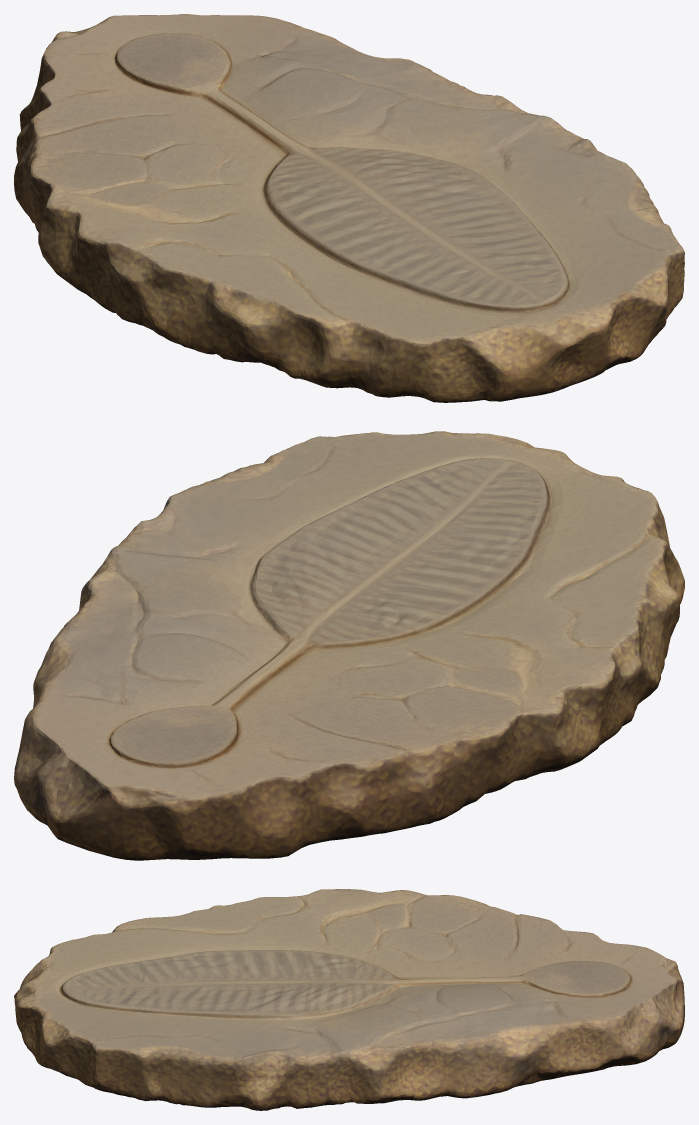
The picture shows the model from 3 angles, top to bottom: view 1: azimuth 30°, elevation 25°; view 2: azimuth 150°, elevation 25°; view 3: azimuth 270°, elevation 25°; orthographic projection. The views are drawn at different scales.
Visible parts, largest first — view 1: world; view 2: world; view 3: world.
Part boxes in pixels (x1,y1,x2,y2): world: (14,14,684,402); world: (14,431,684,860); world: (14,889,684,1110).
Size of the model in its own units: 0.6401 by 0.0939 by 0.9972.
Materials: 1 (1 with a texture image).
